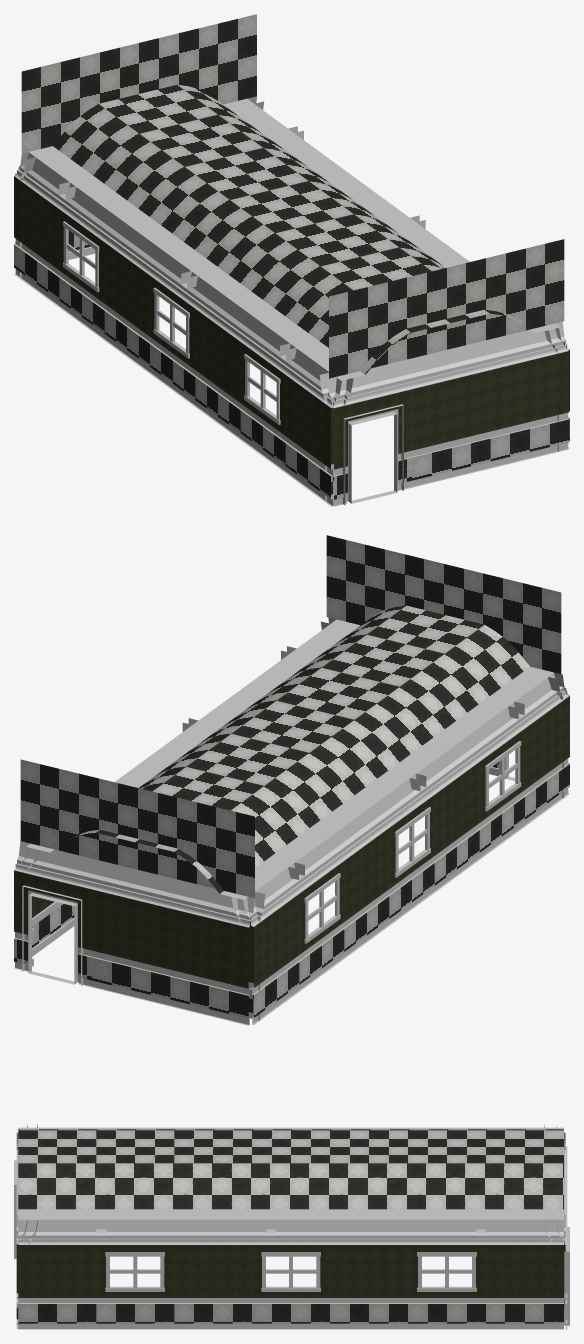
The model's file is Room_1.fbx.
3 renders of one model, top to bottom at view 1: azimuth 30°, elevation 25°; view 2: azimuth 150°, elevation 25°; view 3: azimuth 270°, elevation 25°, orthographic. The views are drawn at different scales.
Visible parts, largest first — view 1: Plane.007; view 2: Plane.007; view 3: Plane.007.
Boxes of the visible parts, box(x1,y1,x2,y2) form: Plane.007: box(14, 14, 569, 506); Plane.007: box(14, 535, 569, 1025); Plane.007: box(14, 1124, 569, 1329).
Bounding box in the file's own units: 618 × 500 × 1427.
